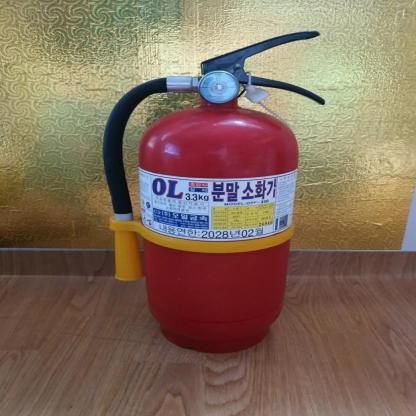Fire Extinguisher: (87, 16, 338, 362)
